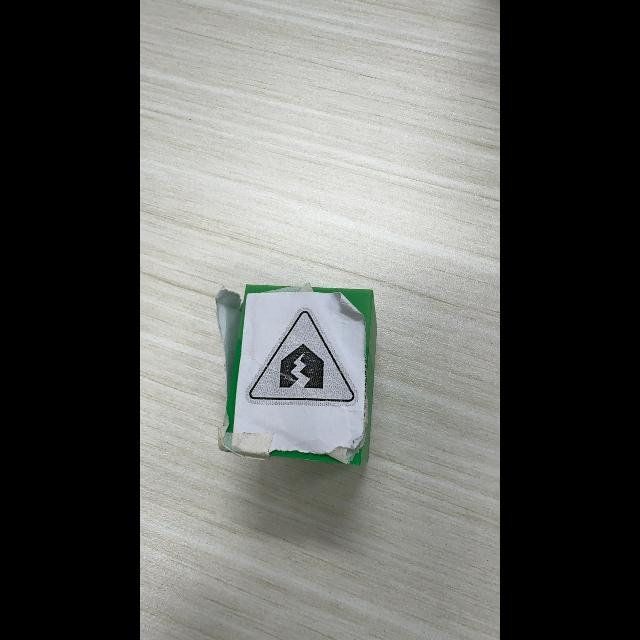Earthquake: (245, 309, 357, 406)
